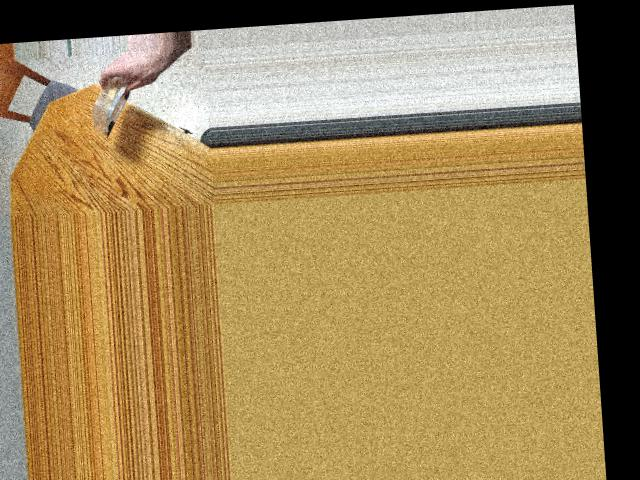cheese: (89, 72, 132, 136)
